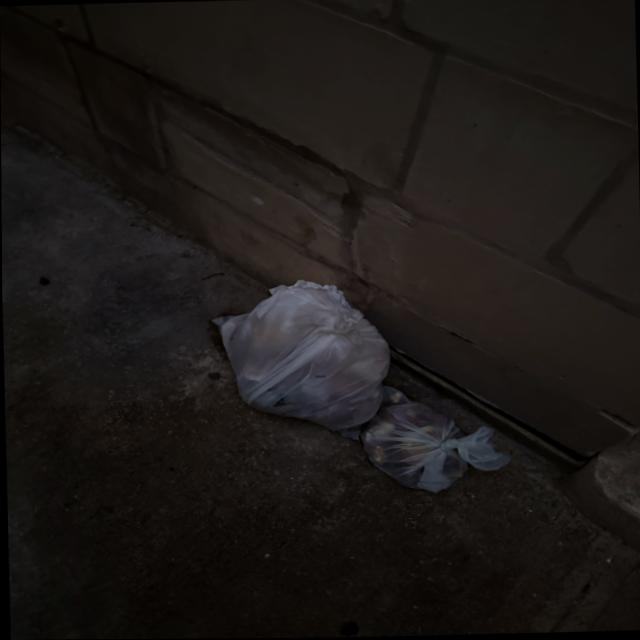Organic Waste -White Bags-: (211, 282, 509, 491)
